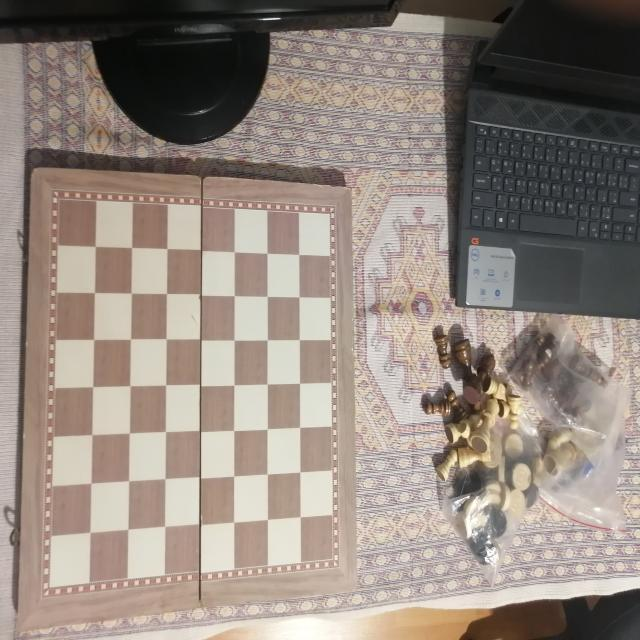corners: (29, 159, 46, 179), (342, 184, 358, 202), (342, 578, 358, 596), (12, 622, 29, 638)
